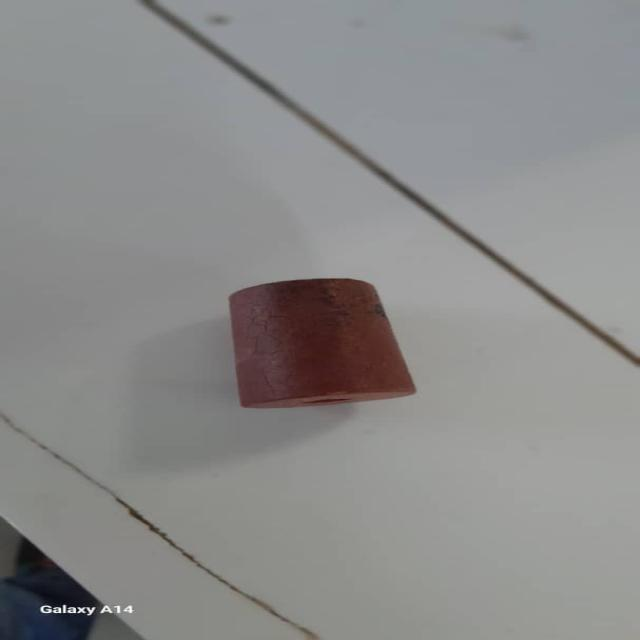Stopper: (220, 274, 412, 407)
